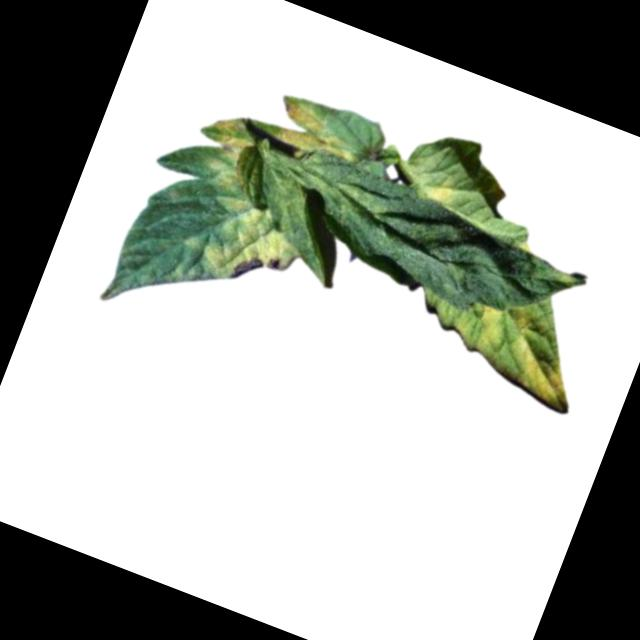Leaf_Mold: (438, 286, 597, 416), (243, 140, 396, 260), (190, 186, 313, 301), (264, 90, 369, 173), (189, 106, 266, 194), (416, 166, 459, 209)
